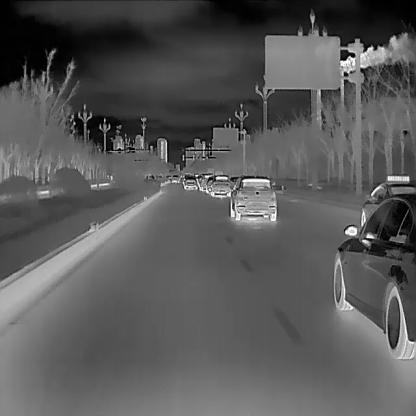car: (332, 192, 416, 360), (361, 170, 414, 248), (228, 173, 275, 222), (210, 174, 230, 196), (182, 176, 196, 188)
